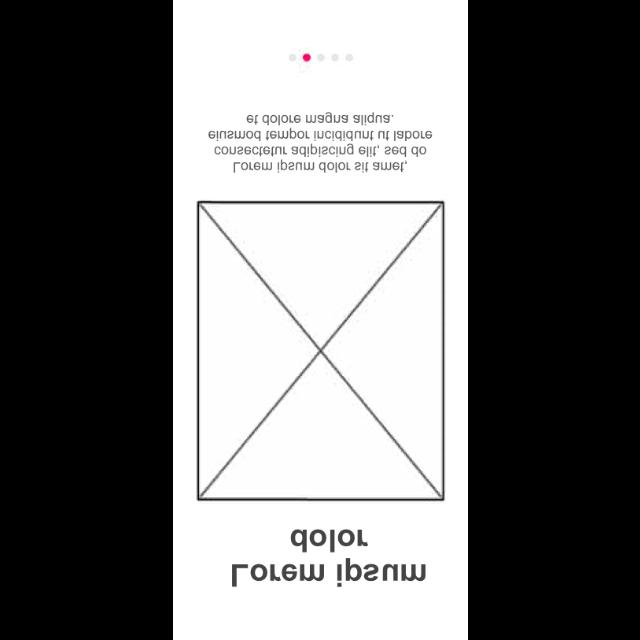image: (197, 201, 446, 503)
pageindicator: (288, 54, 354, 62)
text: (208, 111, 432, 173), (232, 528, 426, 588)
